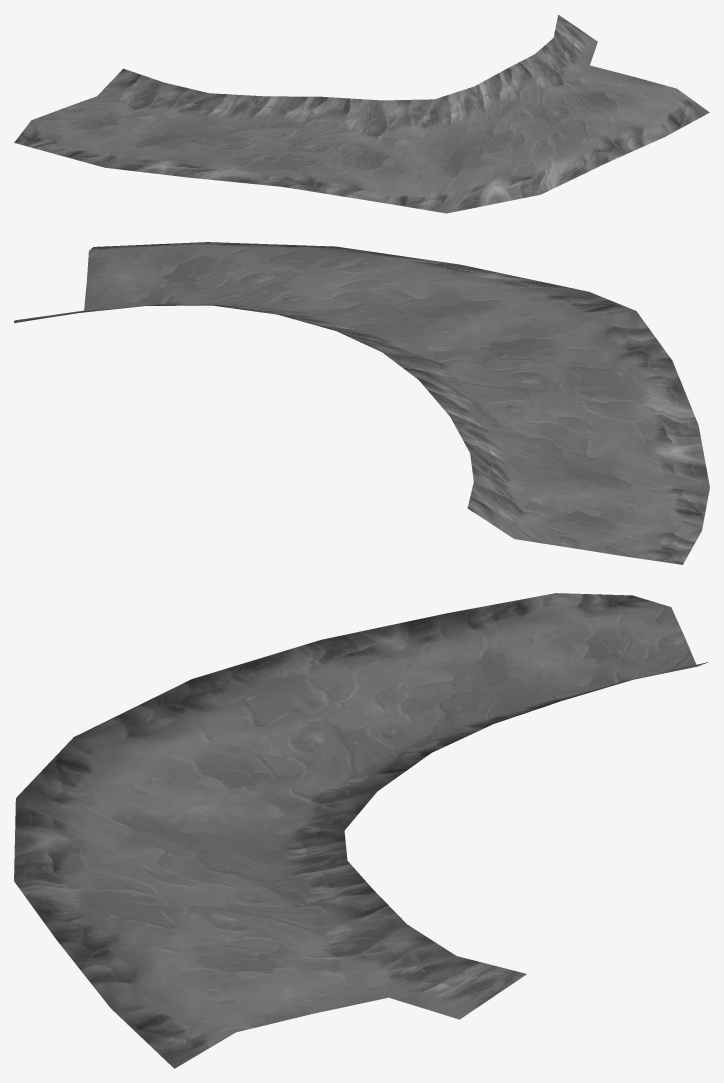
The model's file is SWORDLIGHT20_PS-AREA03_151.fbx.
The picture shows the model from 3 angles, top to bottom: view 1: azimuth 30°, elevation 25°; view 2: azimuth 150°, elevation 25°; view 3: azimuth 270°, elevation 25°; orthographic projection. The views are drawn at different scales.
Parts seen in each view (by area): view 1: SWORDLIGHT20_PS-AREA03_151; view 2: SWORDLIGHT20_PS-AREA03_151; view 3: SWORDLIGHT20_PS-AREA03_151.
Boxes of the visible parts, box(x1,y1,x2,y2) form: SWORDLIGHT20_PS-AREA03_151: box(14, 15, 709, 213); SWORDLIGHT20_PS-AREA03_151: box(14, 242, 709, 564); SWORDLIGHT20_PS-AREA03_151: box(14, 593, 708, 1068).
Size of the model in its own units: 187921 by 11555 by 119754.
Materials: 1 (1 with a texture image).
